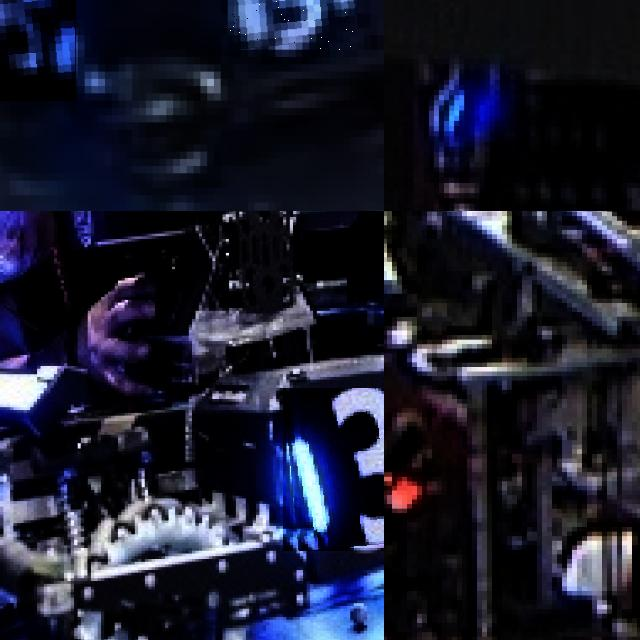B3: (282, 388, 384, 551)
B5: (0, 0, 77, 100), (227, 0, 357, 49)
